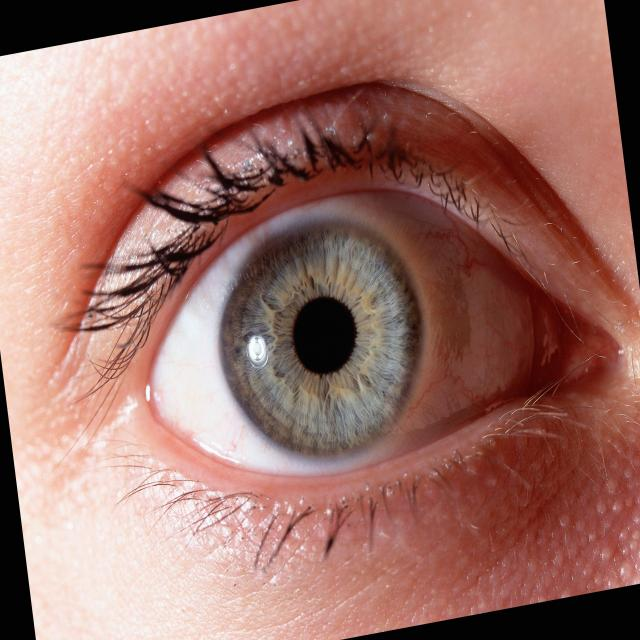Healthy-Eye: (77, 104, 606, 533)
